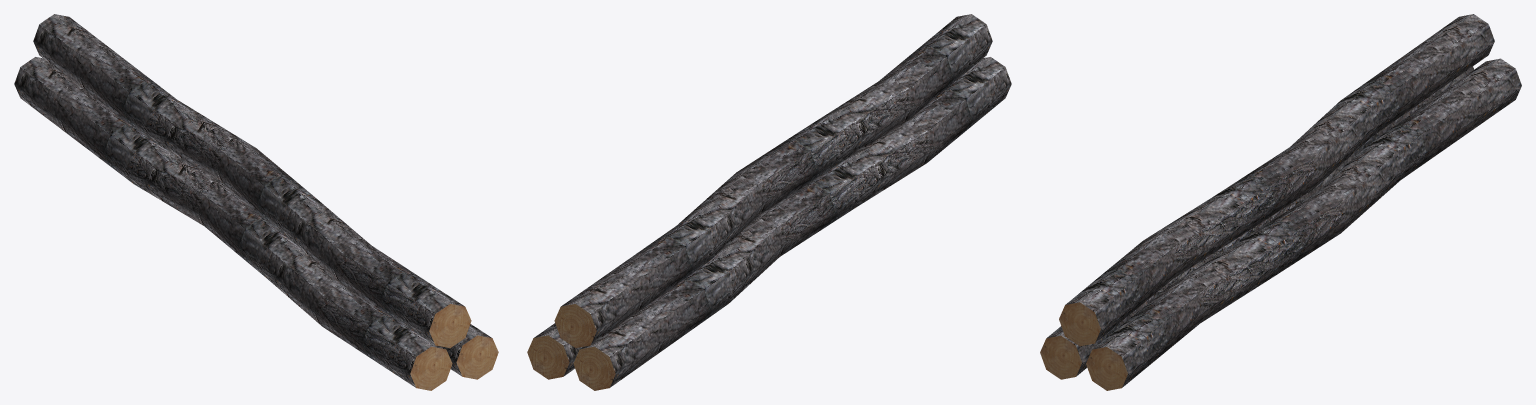
Rendered from log.FBX.
3 views of the same model, side by side, from view 1: azimuth 30°, elevation 25°; view 2: azimuth 150°, elevation 25°; view 3: azimuth 330°, elevation 25° (orthographic).
Visible parts, largest first — view 1: Cylinder043, Cylinder042, Cylinder041; view 2: Cylinder043, Cylinder042, Cylinder041; view 3: Cylinder041, Cylinder043, Cylinder042.
Boxes of the visible parts, bbox=[...] form: Cylinder043: bbox=[33, 14, 471, 347]; Cylinder042: bbox=[14, 57, 452, 390]; Cylinder041: bbox=[442, 324, 498, 379]; Cylinder043: bbox=[554, 14, 992, 347]; Cylinder042: bbox=[573, 57, 1011, 390]; Cylinder041: bbox=[527, 323, 582, 379]; Cylinder041: bbox=[1086, 58, 1521, 390]; Cylinder043: bbox=[1059, 14, 1494, 346]; Cylinder042: bbox=[1040, 66, 1473, 379].
Bounding box in the file's own units: 17.57 × 13.62 × 119.
Materials: 2 (2 with a texture image).
